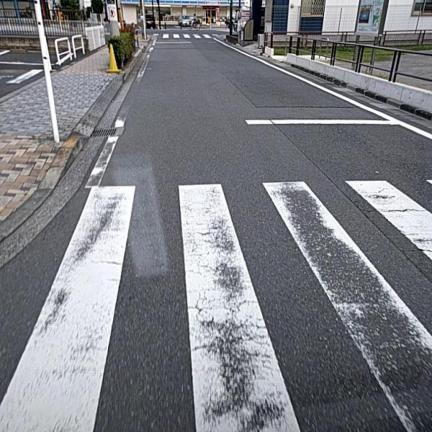Road: (0, 30, 431, 431)
